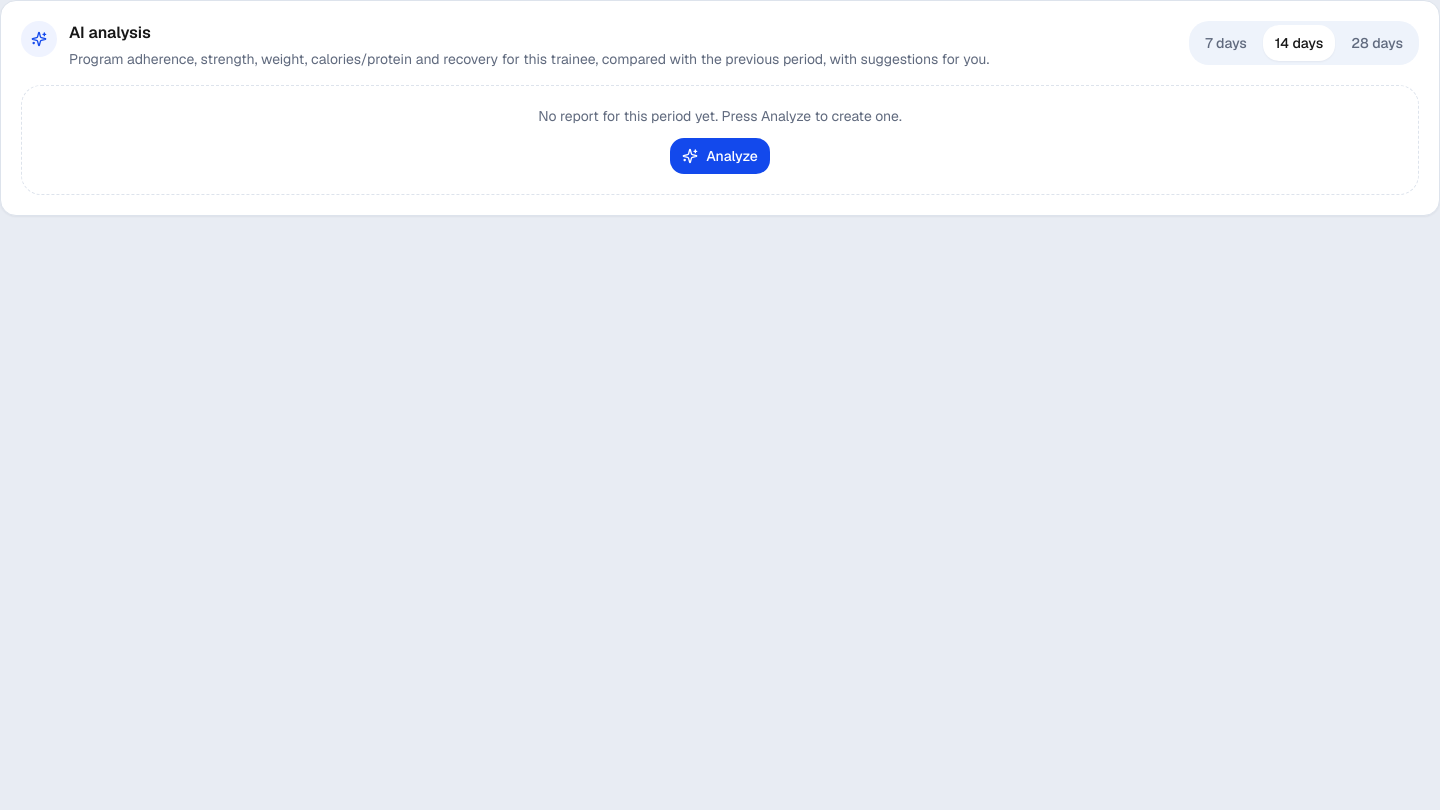
Test: TraineeAIInsightPanel › asks for a new report for the chosen window
Click the radio button labelled "7 days" at (1226, 43), box [1193,25,1259,61]
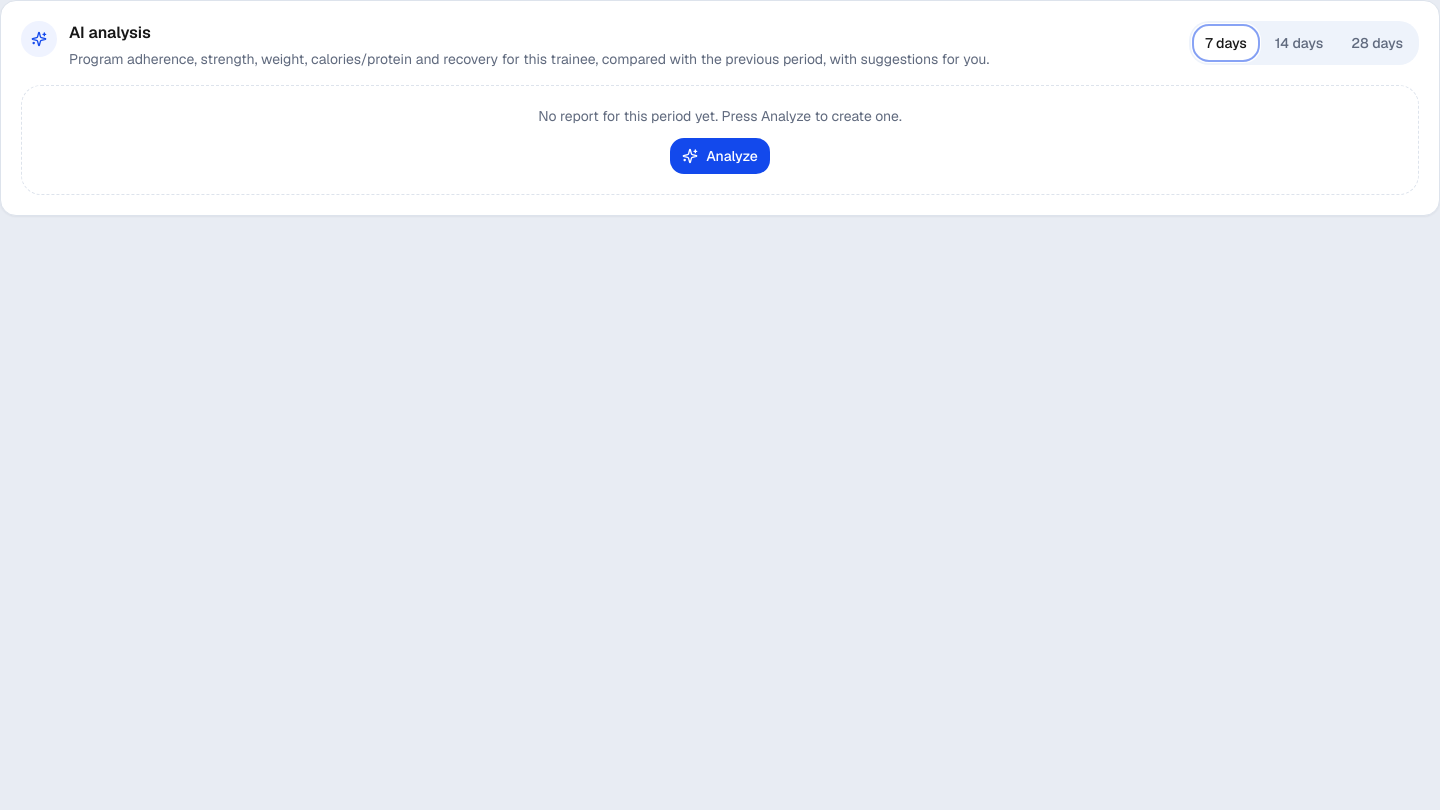
Click the button "Analyze" at (720, 156), box [670,138,770,174]
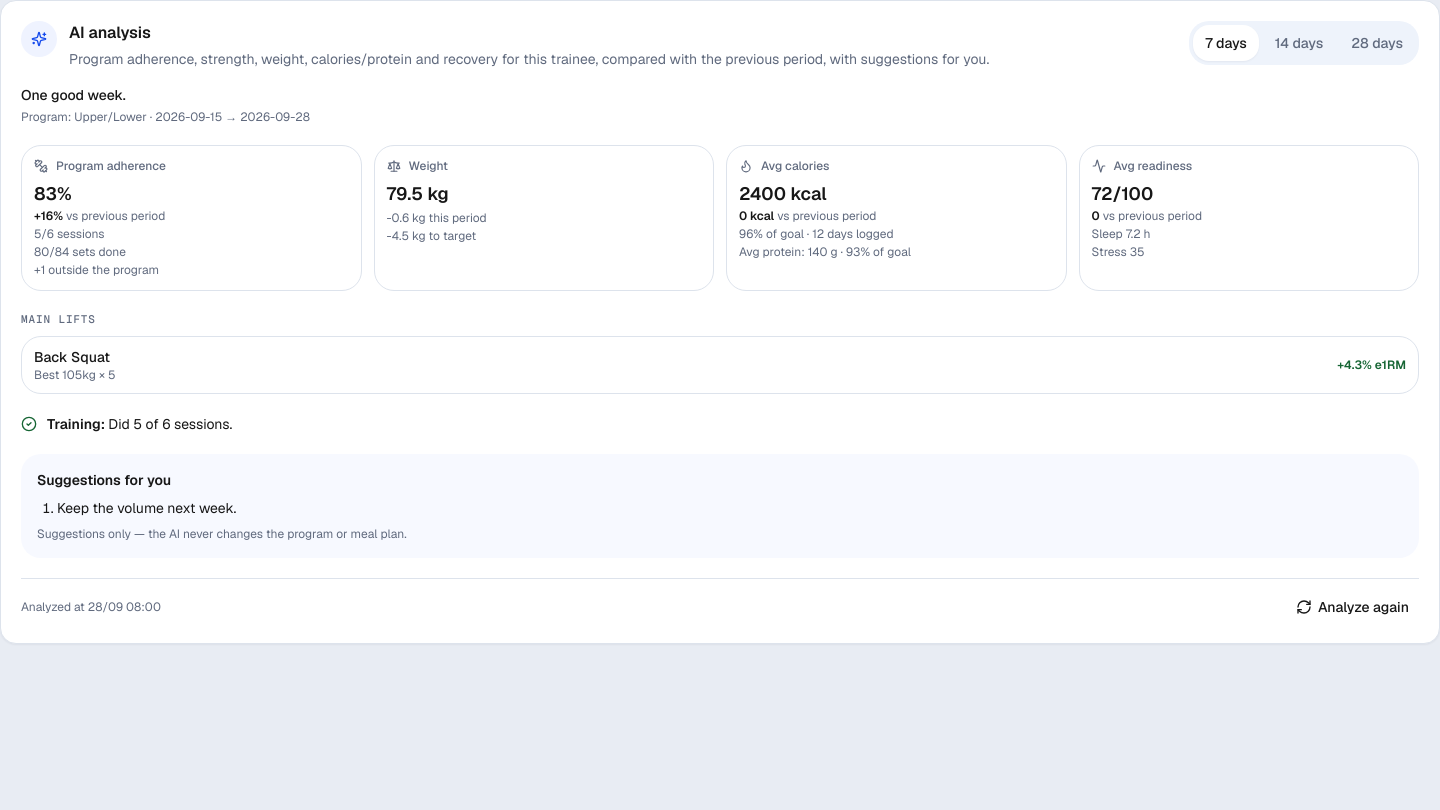
expect the text "One good week." is shown: met, box [21,86,126,104]
